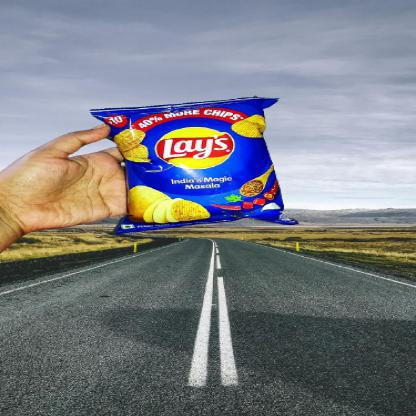indian_magic_masala: (96, 95, 287, 232)
